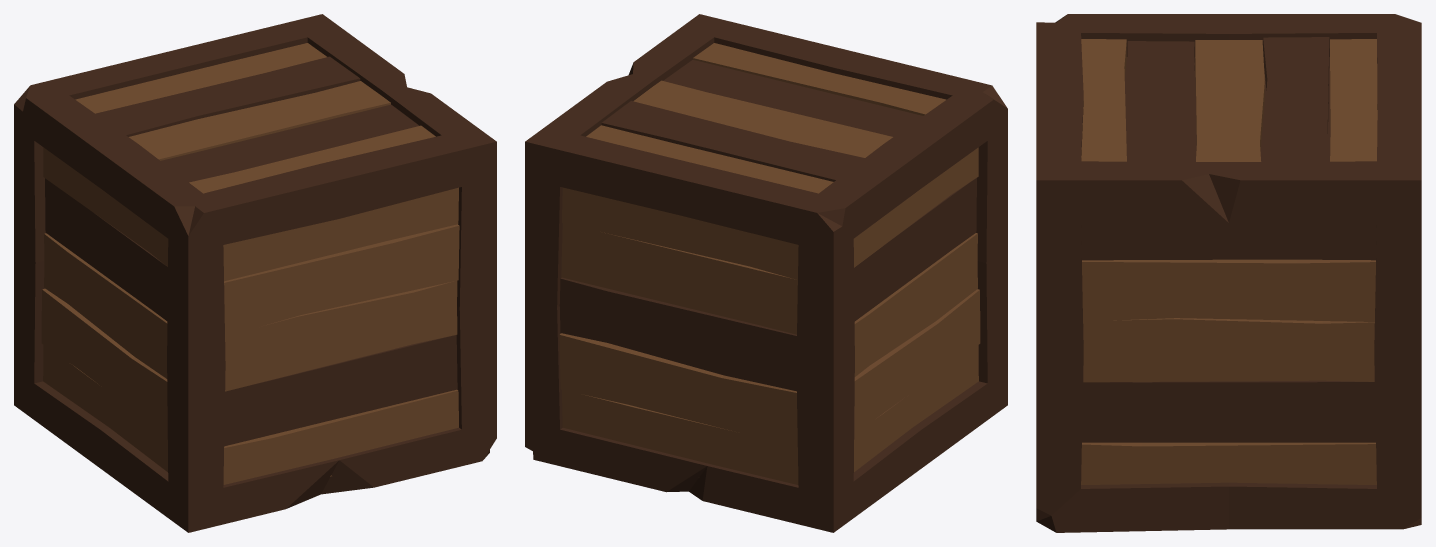
The model's file is WoodenBox02.fbx.
3 views of the same model, side by side, from view 1: azimuth 30°, elevation 25°; view 2: azimuth 150°, elevation 25°; view 3: azimuth 270°, elevation 25° (orthographic). The views are drawn at different scales.
Visible parts, largest first — view 1: SM_Wooden_BoxB; view 2: SM_Wooden_BoxB; view 3: SM_Wooden_BoxB.
Boxes of the visible parts, left/top/right/bottom form: SM_Wooden_BoxB: left=14, top=14, right=496, bottom=532; SM_Wooden_BoxB: left=525, top=14, right=1007, bottom=532; SM_Wooden_BoxB: left=1036, top=14, right=1421, bottom=532.
Bounding box in the file's own units: 0.9411 × 0.9207 × 0.9147.
